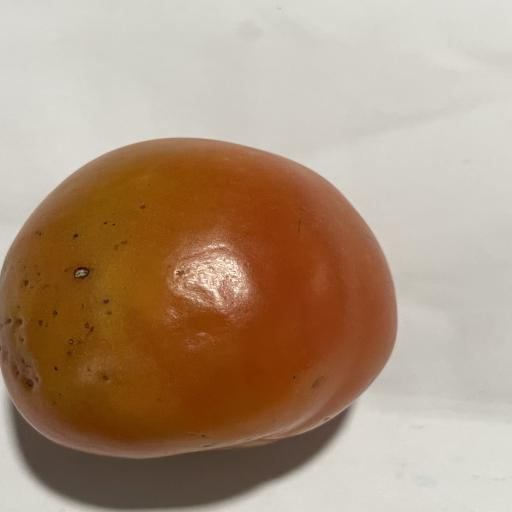unripe: (0, 138, 396, 458)
